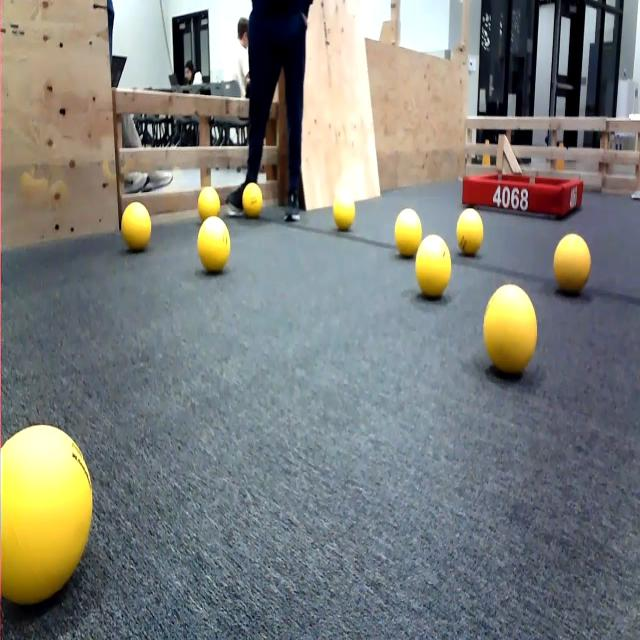fuel: (0, 425, 92, 600), (484, 285, 537, 374), (416, 235, 451, 298), (554, 234, 590, 294), (197, 217, 231, 273), (121, 202, 151, 250), (456, 208, 484, 256), (395, 208, 422, 257), (333, 194, 355, 231), (198, 186, 220, 221), (243, 183, 262, 218)
